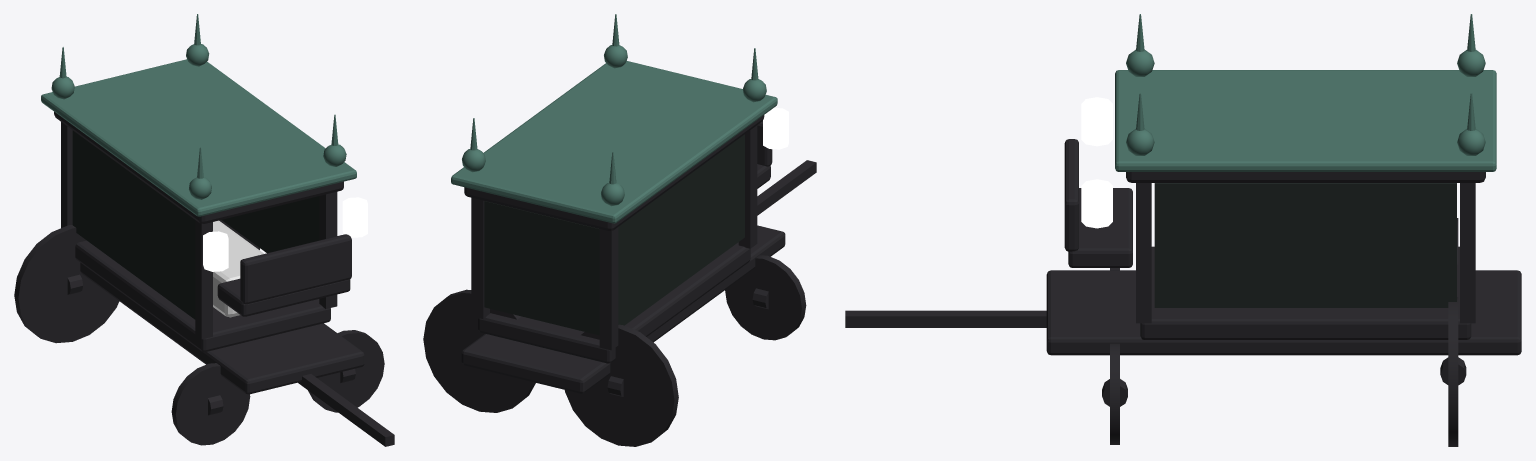
Rendered from haunt_hearse.fbx.
3 renders of one model, left to right at view 1: azimuth 30°, elevation 25°; view 2: azimuth 150°, elevation 25°; view 3: azimuth 270°, elevation 25°, orthographic. The views are drawn at different scales.
Parts seen in each view (by area): view 1: tar_1, verdigris_1, glass_1, candle_1, deadwood_1; view 2: tar_1, verdigris_1, glass_1, candle_1; view 3: tar_1, verdigris_1, glass_1, candle_1.
Boxes of the visible parts, <box> form: tar_1: <box>14,112,394,446</box>; verdigris_1: <box>41,14,356,216</box>; glass_1: <box>72,130,319,319</box>; candle_1: <box>203,197,367,271</box>; deadwood_1: <box>213,220,263,317</box>; tar_1: <box>423,115,816,446</box>; verdigris_1: <box>451,14,777,223</box>; glass_1: <box>484,134,744,335</box>; candle_1: <box>763,108,788,149</box>; tar_1: <box>845,139,1521,446</box>; verdigris_1: <box>1115,14,1496,171</box>; glass_1: <box>1154,183,1456,307</box>; candle_1: <box>1081,97,1112,228</box>.
Bounding box in the file's own units: 0.47 × 0.532 × 0.94.
